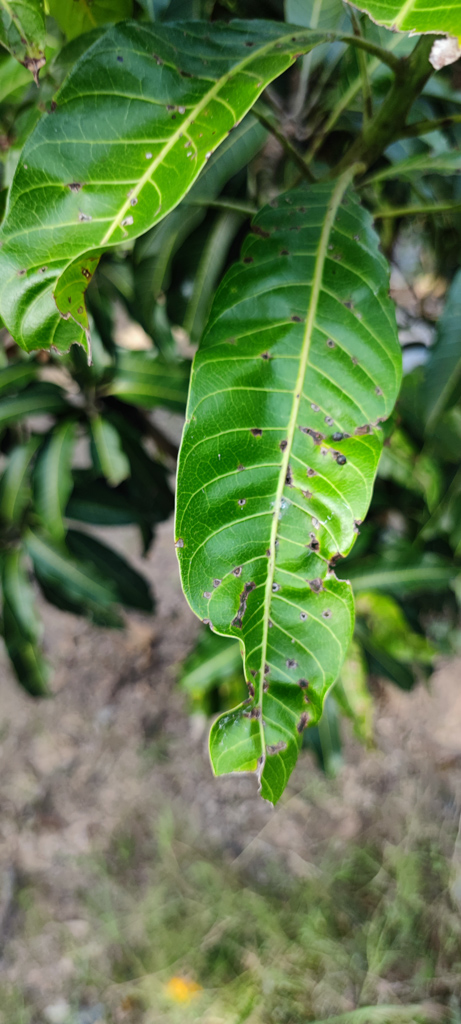Alternaria brassicicola: (200, 232, 394, 804), (12, 18, 341, 339)
